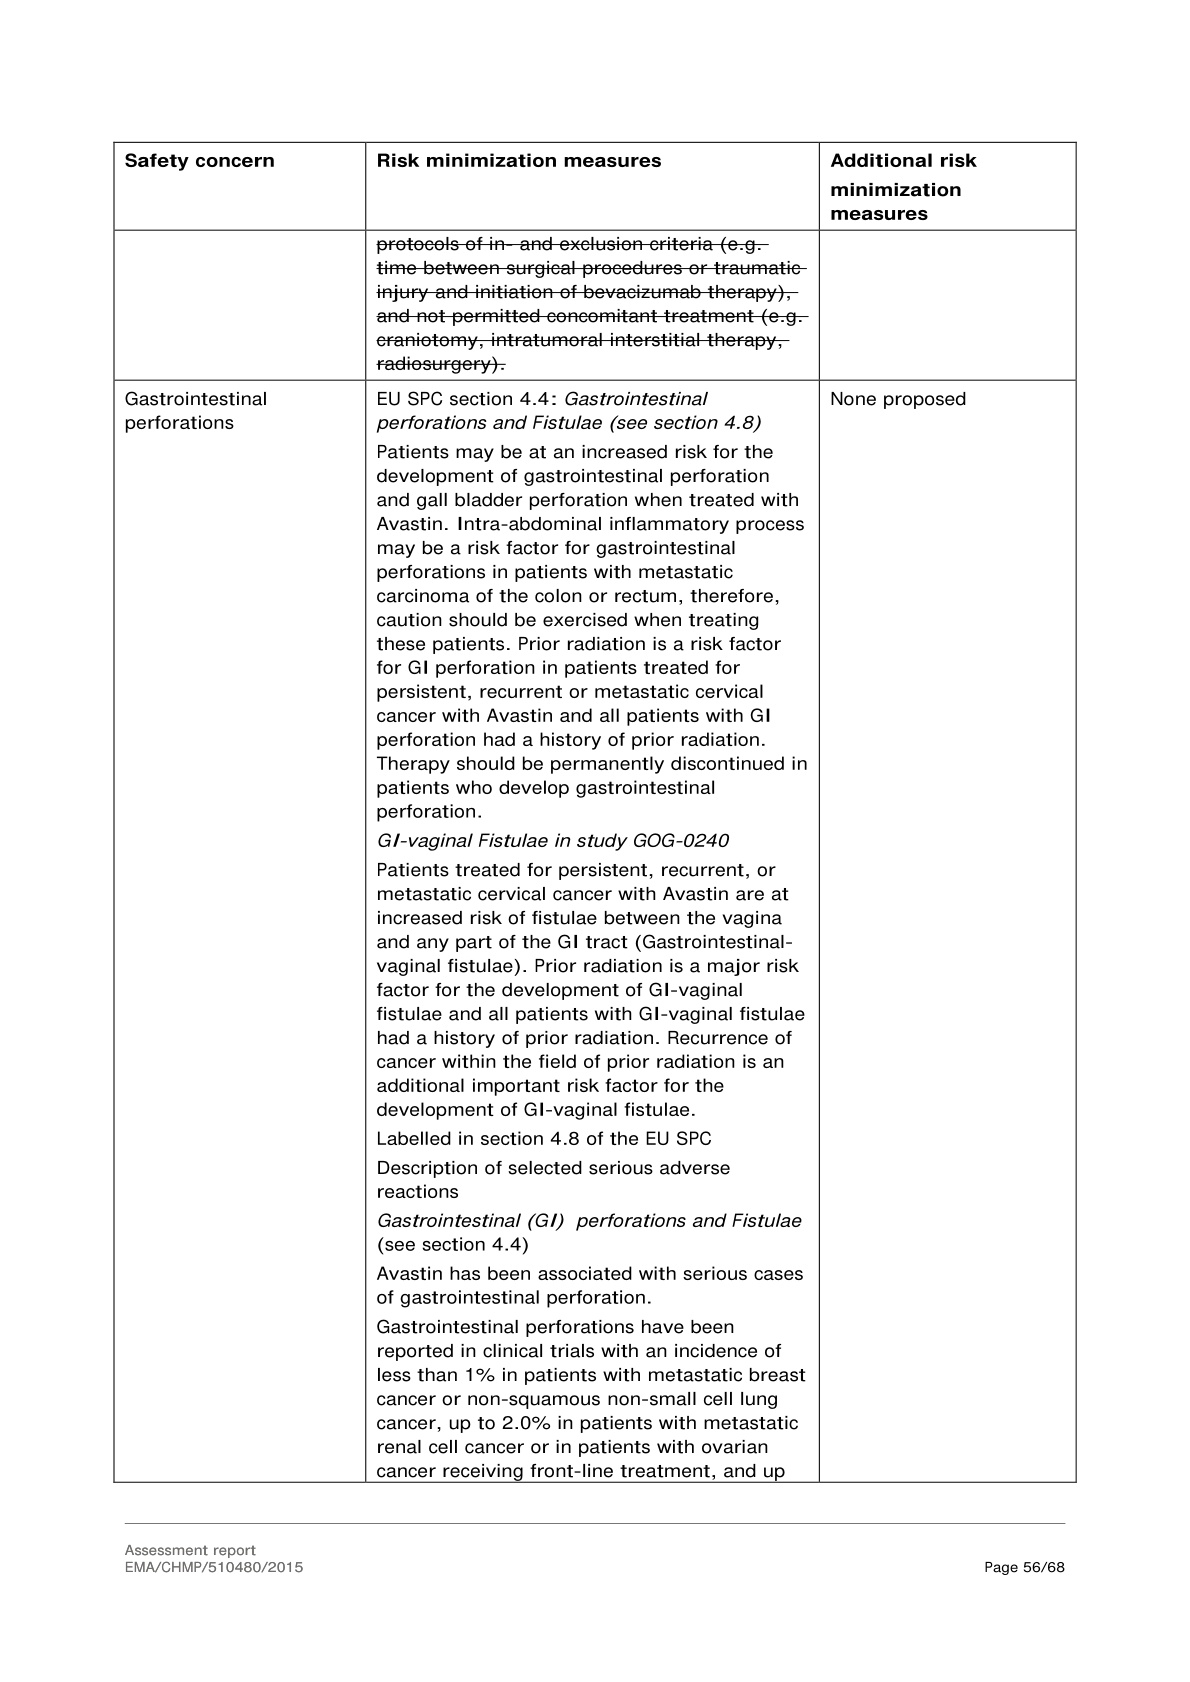full_lined: (107, 139, 1093, 1500)
